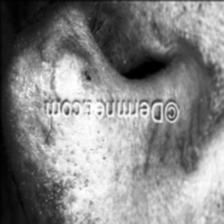Potentially Malignant Skin Tumors: (49, 42, 86, 98)
